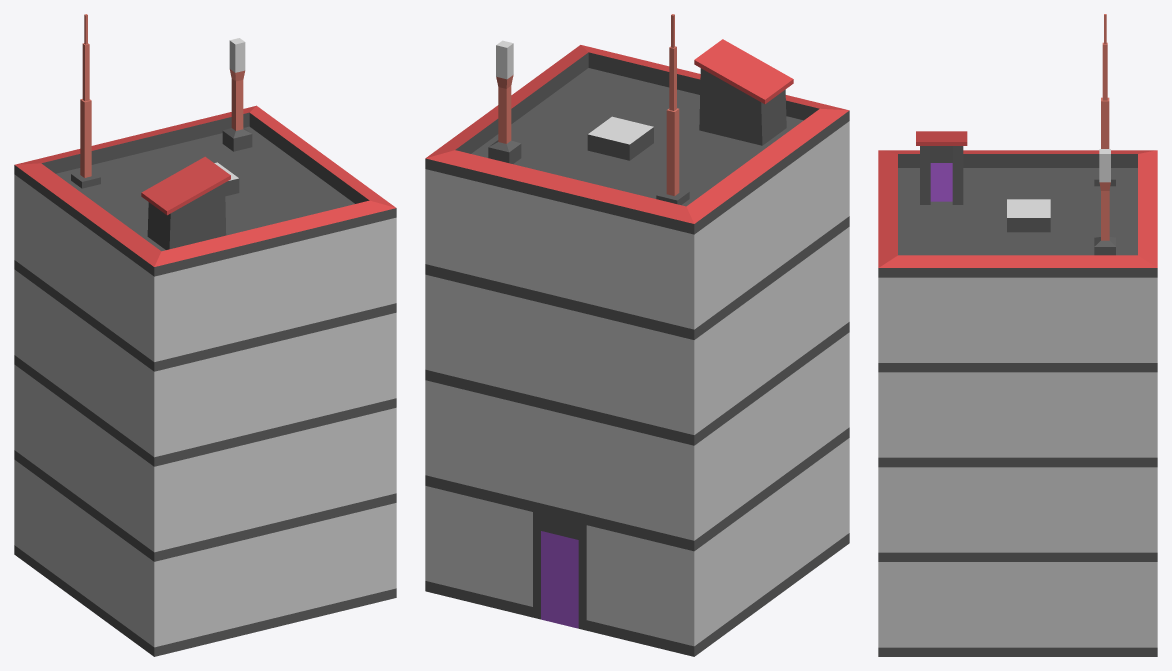
File: BasicOffice.fbx
The picture shows the model from 3 angles, left to right: view 1: azimuth 30°, elevation 25°; view 2: azimuth 150°, elevation 25°; view 3: azimuth 270°, elevation 25°; orthographic projection. The views are drawn at different scales.
Visible parts, largest first — view 1: Cube; view 2: Cube; view 3: Cube.
Boxes of the visible parts, <box> form: Cube: <box>14,14,396,656</box>; Cube: <box>425,14,849,656</box>; Cube: <box>878,14,1157,656</box>.
Size of the model in its own units: 1000 by 1000 by 2161.
